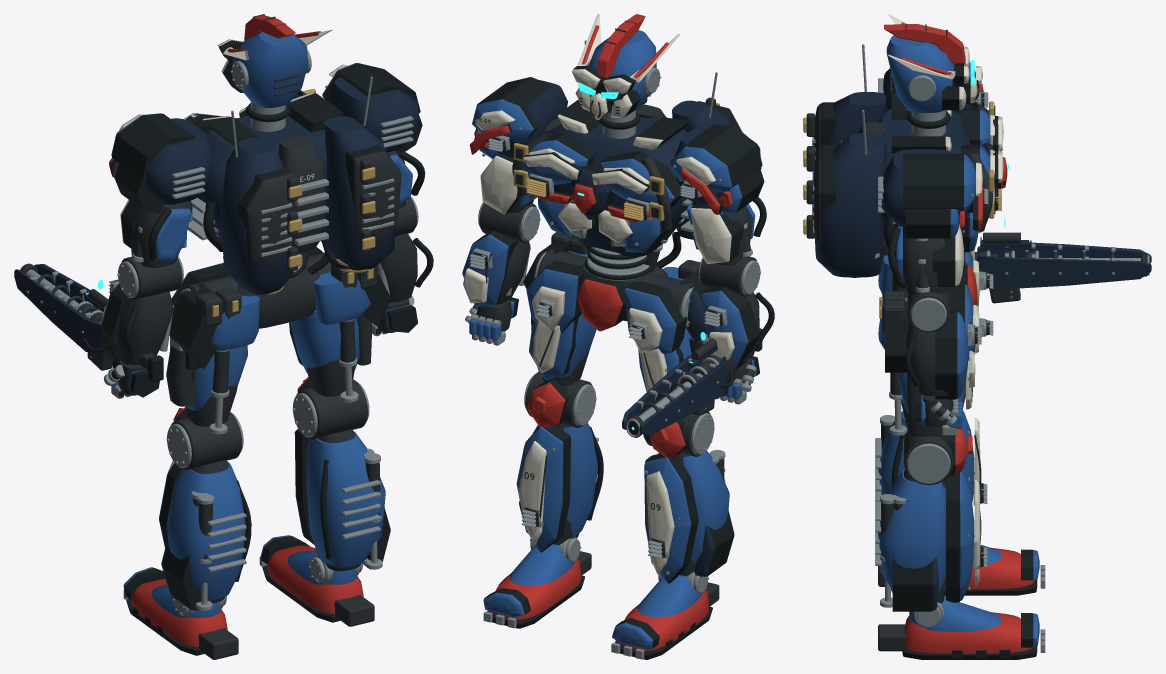
The model's file is Echo9_Hero_V7.glb.
3 renders of one model, left to right at view 1: azimuth 30°, elevation 25°; view 2: azimuth 150°, elevation 25°; view 3: azimuth 270°, elevation 25°, orthographic. The views are drawn at different scales.
Parts seen in each view (by area): view 1: Armor_chest, Armor_shin_R, Armor_shin_L, Armor_forearm_R, Armor_pelvis, Armor_shoulder_R, Armor_head, Armor_foot_L, Armor_shoulder_L, Armor_foot_R, Armor_thigh_R, Armor_thigh_L (+7 smaller); view 2: Armor_chest, Armor_shin_R, Armor_shin_L, Armor_forearm_R, Armor_head, Armor_shoulder_R, Armor_foot_L, Armor_foot_R, Armor_forearm_L, Armor_pelvis, Armor_shoulder_L, Armor_skirt_R (+7 smaller); view 3: Armor_chest, Armor_shin_L, Armor_shoulder_L, Armor_head, Armor_forearm_R, Armor_foot_L, Armor_forearm_L, Armor_upper_arm_L, Armor_foot_R, Armor_shin_R, Armor_skirt_L, Armor_thigh_L (+4 smaller).
Boxes of the visible parts, left/top/right/bottom form: Armor_chest: left=183, top=76, right=401, bottom=294; Armor_shin_R: left=159, top=406, right=251, bottom=610; Armor_shin_L: left=292, top=377, right=390, bottom=571; Armor_forearm_R: left=14, top=256, right=183, bottom=381; Armor_pelvis: left=195, top=250, right=376, bottom=350; Armor_shoulder_R: left=109, top=113, right=213, bottom=213; Armor_head: left=217, top=14, right=332, bottom=131; Armor_foot_L: left=259, top=535, right=374, bottom=626; Armor_shoulder_L: left=322, top=63, right=422, bottom=152; Armor_foot_R: left=123, top=567, right=238, bottom=659; Armor_thigh_R: left=166, top=275, right=247, bottom=434; Armor_thigh_L: left=289, top=252, right=372, bottom=402; Armor_chest: left=512, top=40, right=742, bottom=256; Armor_shin_R: left=643, top=411, right=734, bottom=583; Armor_shin_L: left=516, top=371, right=603, bottom=552; Armor_forearm_R: left=622, top=256, right=774, bottom=437; Armor_head: left=572, top=14, right=680, bottom=138; Armor_shoulder_R: left=670, top=122, right=764, bottom=214; Armor_foot_L: left=483, top=537, right=591, bottom=628; Armor_foot_R: left=611, top=572, right=719, bottom=659; Armor_forearm_L: left=462, top=202, right=540, bottom=306; Armor_pelvis: left=551, top=232, right=700, bottom=331; Armor_shoulder_L: left=469, top=77, right=567, bottom=158; Armor_skirt_R: left=624, top=271, right=707, bottom=353; Armor_chest: left=803, top=44, right=1008, bottom=277; Armor_shin_L: left=875, top=428, right=987, bottom=611; Armor_shoulder_L: left=878, top=149, right=988, bottom=238; Armor_head: left=884, top=14, right=979, bottom=136; Armor_forearm_R: left=971, top=218, right=1151, bottom=303; Armor_foot_L: left=878, top=595, right=1045, bottom=659; Armor_forearm_L: left=905, top=290, right=981, bottom=399; Armor_upper_arm_L: left=888, top=224, right=963, bottom=294; Armor_foot_R: left=878, top=543, right=1045, bottom=595; Armor_shin_R: left=875, top=382, right=987, bottom=505; Armor_skirt_L: left=885, top=283, right=993, bottom=372; Armor_thigh_L: left=889, top=360, right=972, bottom=436.
Size of the model in its own units: 3.62 by 6.86 by 3.66.
